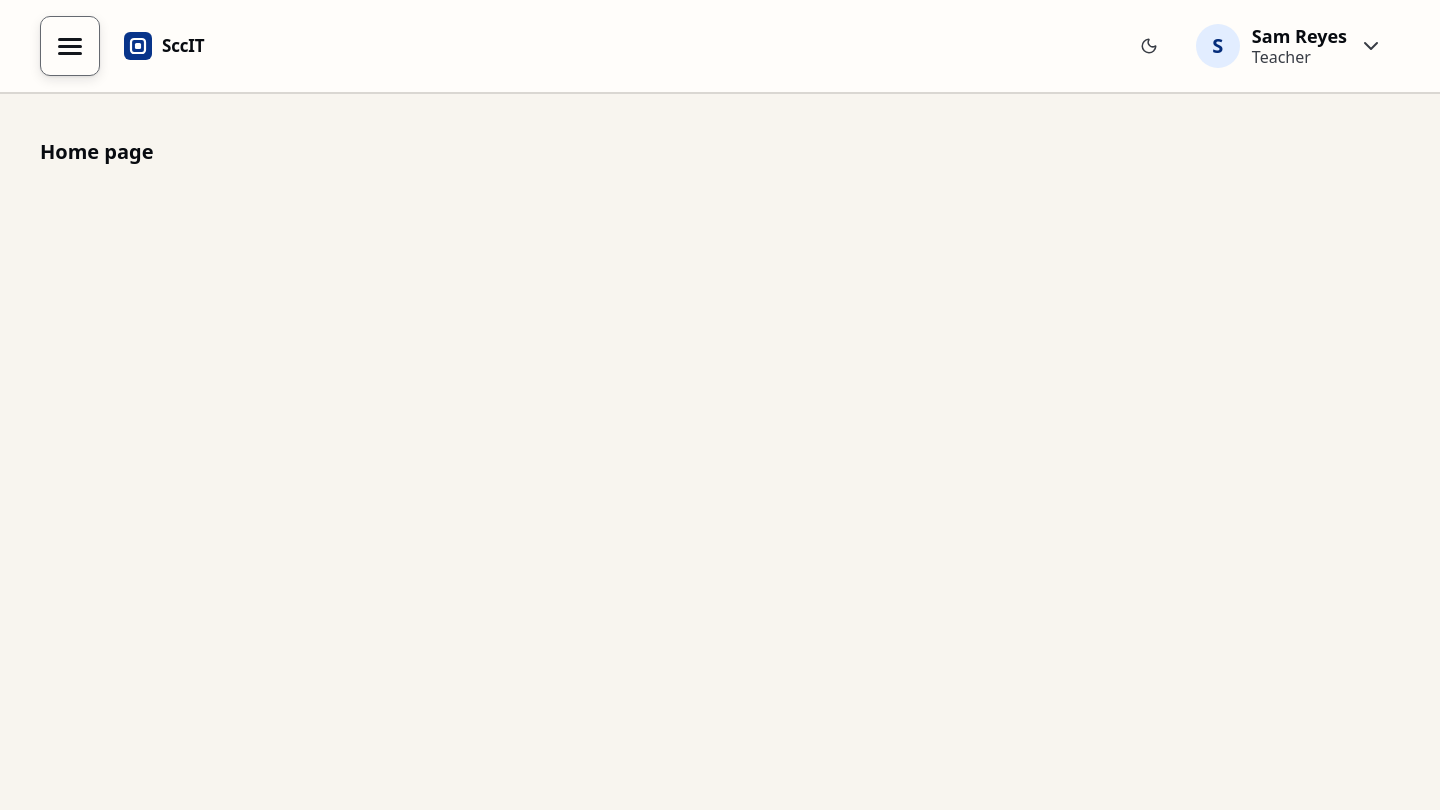
Test case: opening and closing › closes when a link is chosen, and the page it names is shown
Click the button named "open navigation menu".
click(70, 46)  # box [40,16,100,76]
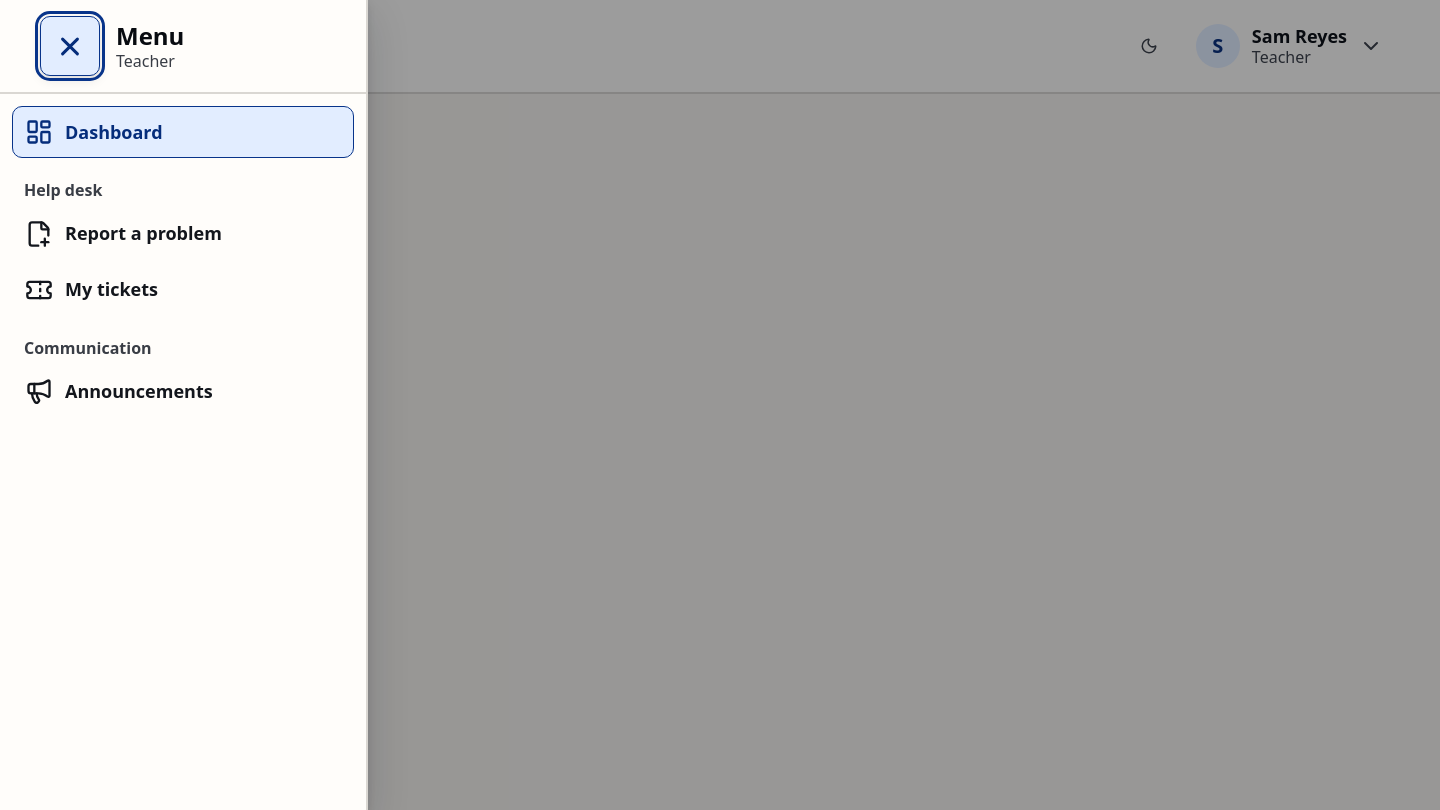
Click the link "Announcements".
click(119, 391)  # box [25,377,213,405]
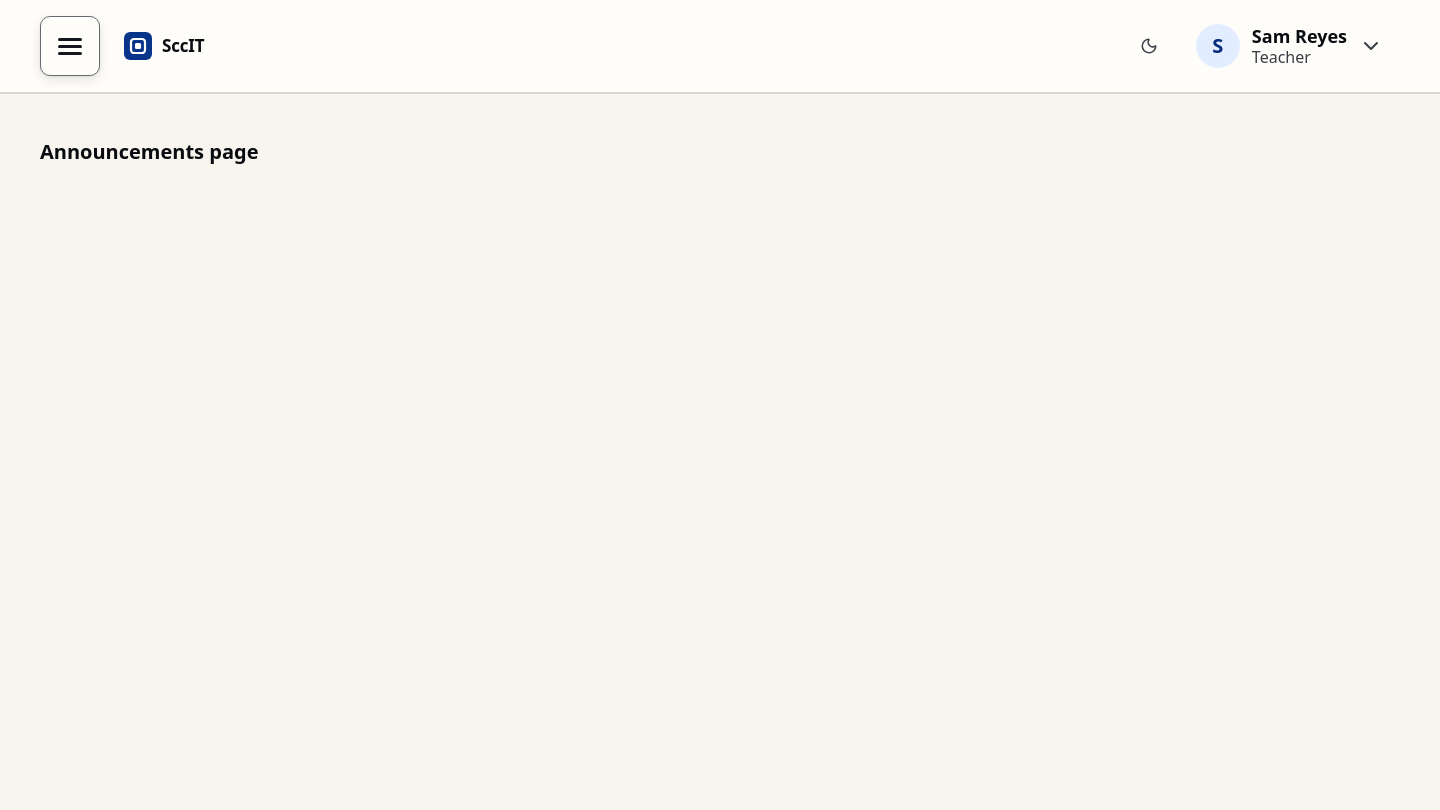
Check: the heading "Announcements page" is shown, box [40,138,258,165]
Check: the button named "open navigation menu" is collapsed, box [40,16,100,76]
